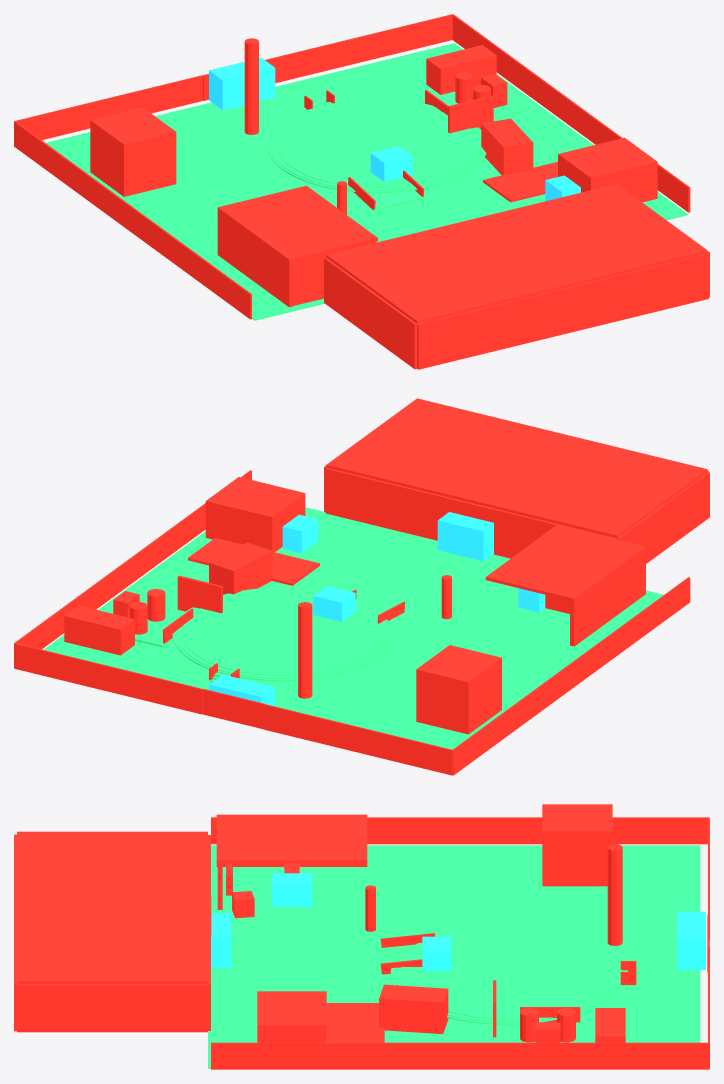
File: charleston-operations-yard-runtime.glb
The picture shows the model from 3 angles, top to bottom: view 1: azimuth 30°, elevation 25°; view 2: azimuth 150°, elevation 25°; view 3: azimuth 270°, elevation 25°; orthographic projection. The views are drawn at different scales.
Visible parts, largest first — view 1: WALK_YardSlab, BLOCK_OperationsRoof, BLOCK_OperationsWallSouth, WALK_Pad01Deck, BLOCK_FenceWest, BLOCK_ContainerWestStack, BLOCK_MaintenanceRoof, BLOCK_FenceEast, BLOCK_FenceNorthEast, BLOCK_OperationsWallWest, BLOCK_CargoBankBooth, BLOCK_FenceNorthWest (+14 smaller); view 2: WALK_YardSlab, BLOCK_OperationsRoof, WALK_Pad01Deck, BLOCK_FenceWest, BLOCK_MaintenanceRoof, BLOCK_ContainerWestStack, BLOCK_OperationsFrontEast, BLOCK_CargoBankBooth, BLOCK_FenceNorthEast, BLOCK_FenceNorthWest, BLOCK_FenceEast, BLOCK_MaintenanceBack (+17 smaller); view 3: WALK_YardSlab, BLOCK_OperationsRoof, BLOCK_FenceEast, WALK_Pad01Deck, BLOCK_OperationsWallEast, BLOCK_FenceWest, BLOCK_MaintenanceRoof, BLOCK_ContainerWestStack, BLOCK_CargoBankBooth, BLOCK_Forklift, BLOCK_CargoScale, TRIGGER_CityGate (+16 smaller).
Boxes of the visible parts, x1,y1,x2,y2 form: WALK_YardSlab: [46, 43, 688, 320]; BLOCK_OperationsRoof: [326, 184, 707, 323]; BLOCK_OperationsWallSouth: [417, 253, 708, 369]; WALK_Pad01Deck: [276, 102, 478, 187]; BLOCK_FenceWest: [14, 121, 251, 319]; BLOCK_ContainerWestStack: [90, 107, 176, 196]; BLOCK_MaintenanceRoof: [220, 185, 377, 261]; BLOCK_FenceEast: [452, 14, 690, 212]; BLOCK_FenceNorthEast: [265, 14, 452, 82]; BLOCK_OperationsWallWest: [324, 257, 417, 369]; BLOCK_CargoBankBooth: [558, 137, 657, 202]; BLOCK_FenceNorthWest: [14, 75, 202, 139]; WALK_YardSlab: [43, 507, 663, 749]; BLOCK_OperationsRoof: [326, 398, 707, 538]; WALK_Pad01Deck: [181, 590, 383, 675]; BLOCK_FenceWest: [453, 577, 690, 775]; BLOCK_MaintenanceRoof: [485, 525, 644, 600]; BLOCK_ContainerWestStack: [416, 645, 501, 734]; BLOCK_OperationsFrontEast: [325, 467, 448, 540]; BLOCK_CargoBankBooth: [205, 477, 305, 552]; BLOCK_FenceNorthEast: [14, 643, 202, 714]; BLOCK_FenceNorthWest: [264, 704, 452, 775]; BLOCK_FenceEast: [14, 470, 251, 667]; BLOCK_MaintenanceBack: [570, 546, 645, 646]; WALK_YardSlab: [208, 845, 700, 1068]; BLOCK_OperationsRoof: [17, 831, 207, 983]; BLOCK_FenceEast: [211, 1042, 708, 1069]; WALK_Pad01Deck: [400, 929, 612, 1019]; BLOCK_OperationsWallEast: [17, 984, 207, 1032]; BLOCK_FenceWest: [211, 817, 708, 844]; BLOCK_MaintenanceRoof: [216, 815, 367, 863]; BLOCK_ContainerWestStack: [542, 804, 612, 886]; BLOCK_CargoBankBooth: [257, 991, 326, 1042]; BLOCK_Forklift: [379, 984, 448, 1033]; BLOCK_CargoScale: [326, 1003, 384, 1042]; TRIGGER_CityGate: [677, 911, 705, 969].
Bounding box in the file's own units: 46.18 × 9.2 × 60.09.
